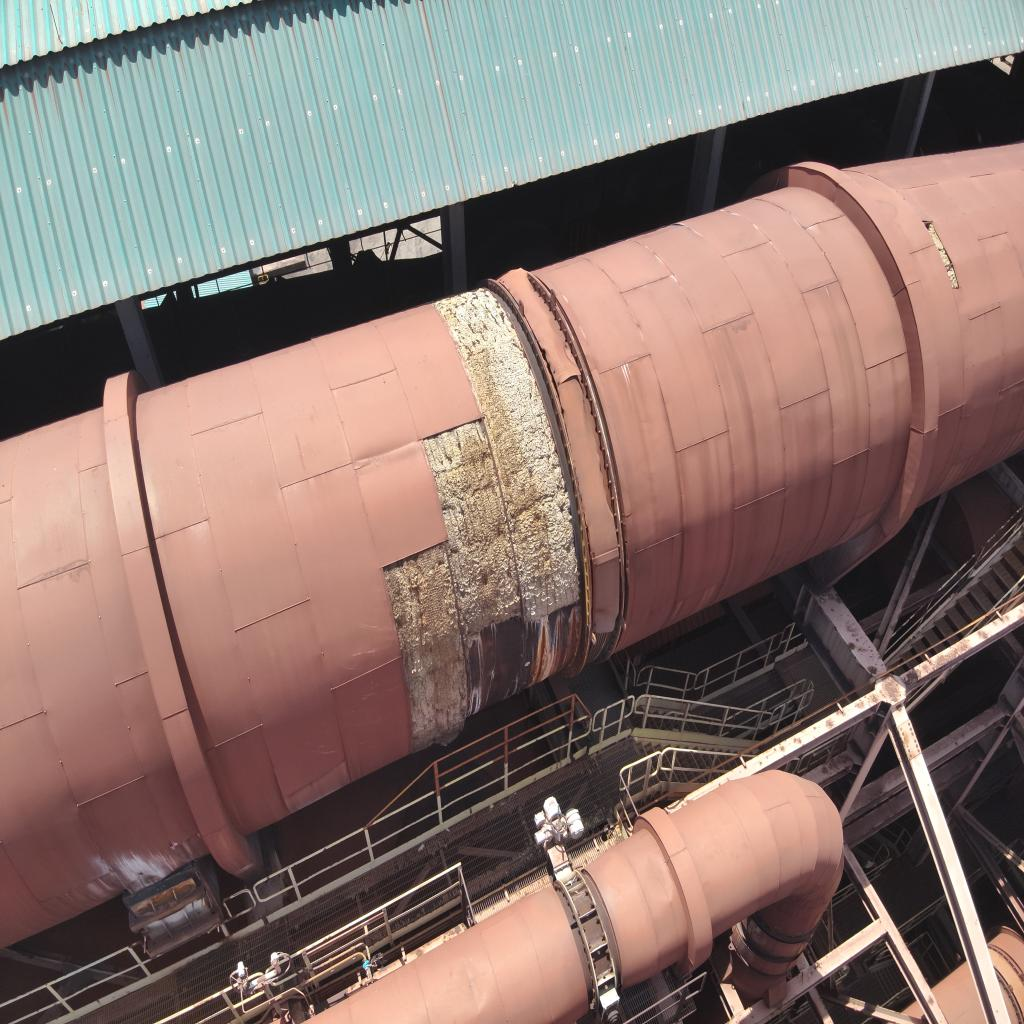Failures: (361, 282, 651, 797), (922, 205, 974, 336)
